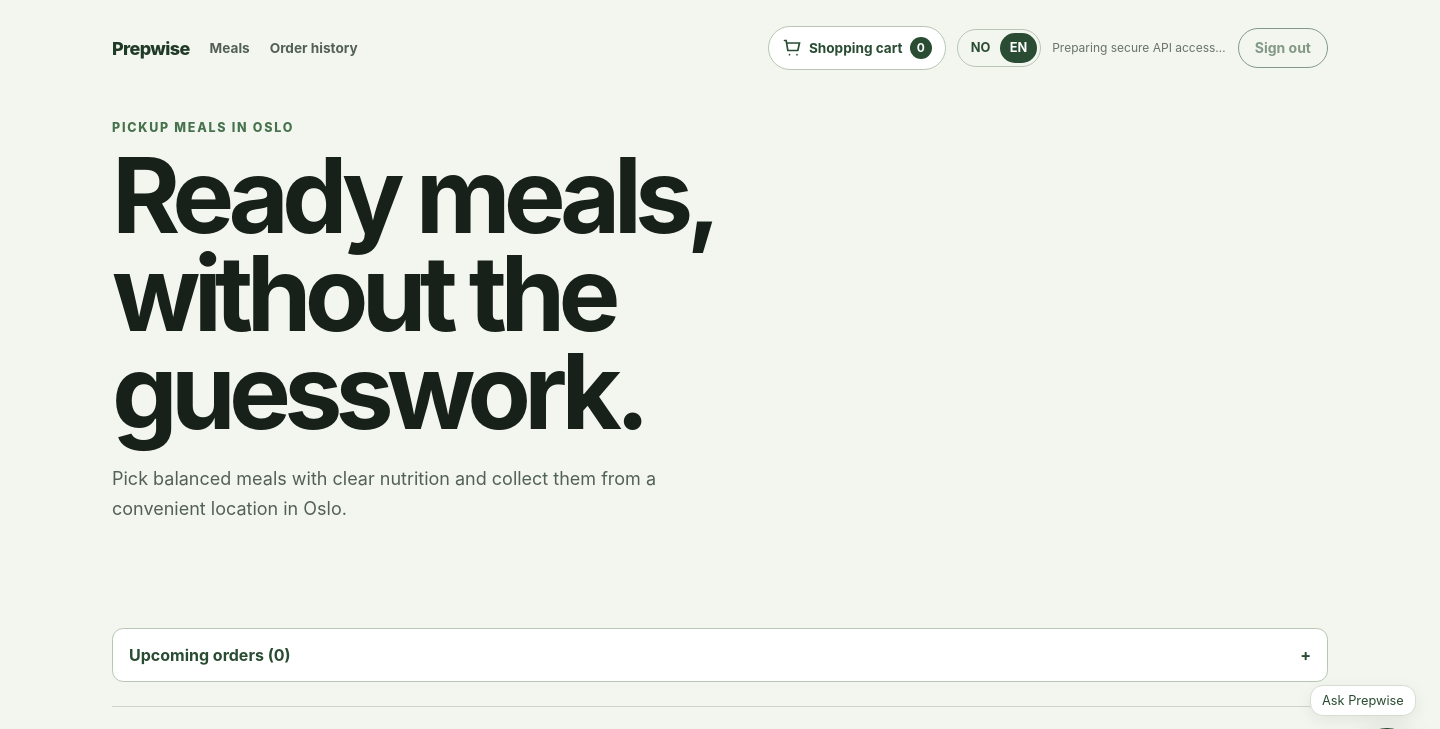
Test case: customer workflow regressions › shows a recoverable cart error when its refresh deadline expires
The width and height of the screenshot is (1440, 729).
Click the button with aria-label "Open cart (0)": (857, 48) [768, 26, 946, 70]
Wait 15001 ms
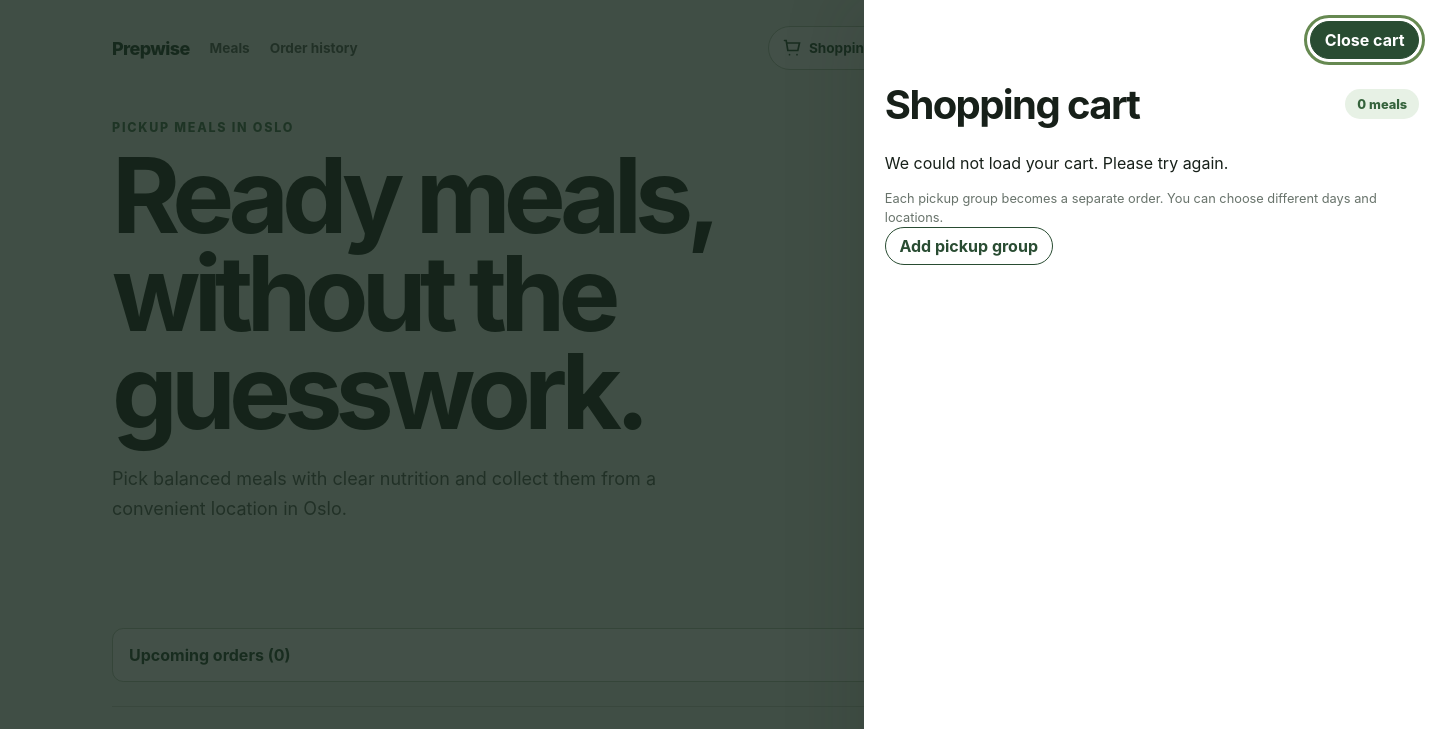
Expected: the message shows "We could not load your cart.", [885, 153, 1228, 173]
